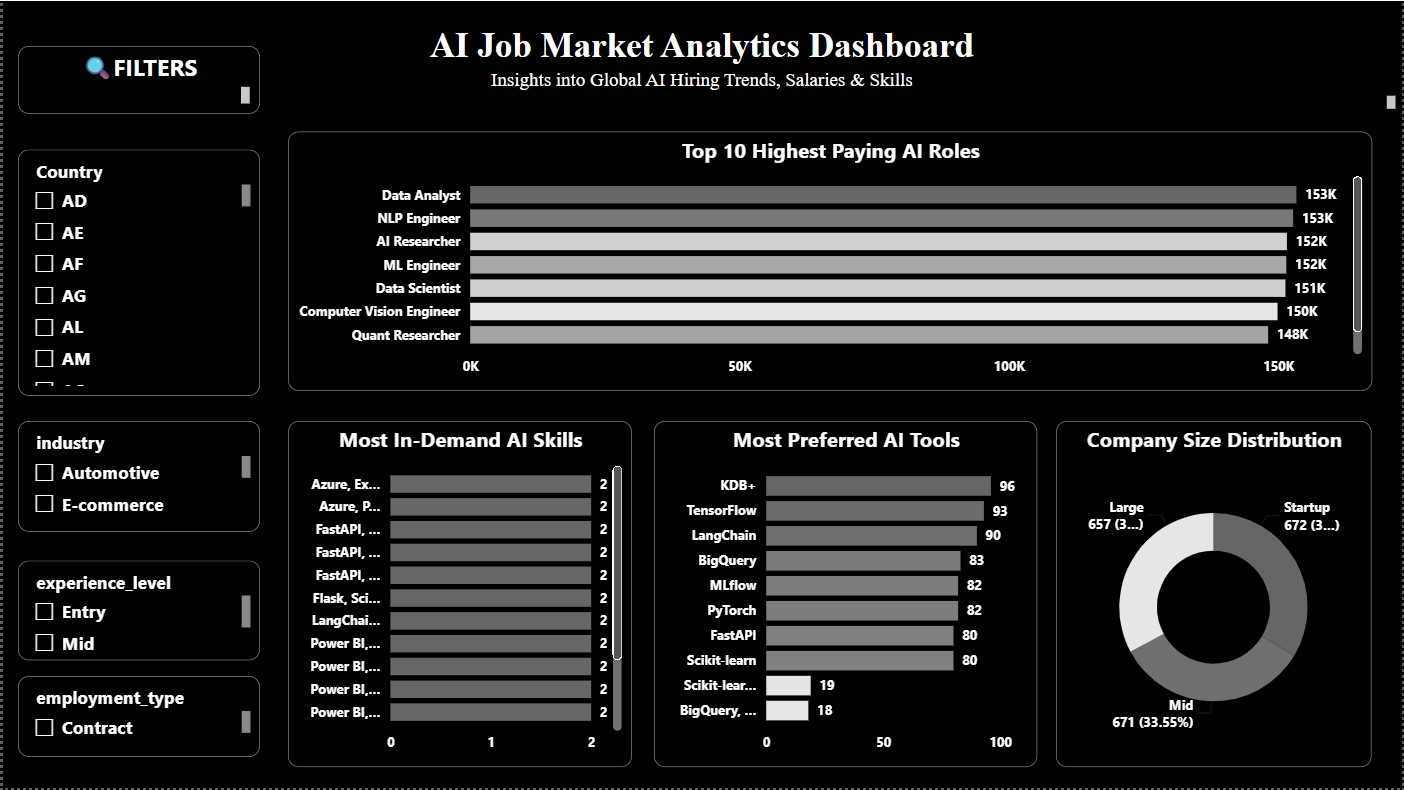

The page's visual inventory and layout, read from the dashboard file:
{"tool":"powerbi","page":{"name":"Salary & Skills Analysis","canvas":[1280,720],"ordinal":1},"visuals":[{"type":"clusteredBarChart","title":"Top 10 Highest Paying AI Roles","fields":{"Category":["ai_job_market.job_title"],"Y":["Avg(ai_job_market.Salary_max)"]},"box":[260.9,119.5,991.9,237],"z":0},{"type":"donutChart","title":"Company Size Distribution","fields":{"Category":["ai_job_market.company_size"],"Y":["CountNonNull(ai_job_market.job_id)"]},"box":[964,384.4,288.8,316.7],"z":1000},{"type":"clusteredBarChart","title":"Most Preferred AI Tools","fields":{"Category":["ai_job_market.tools_preferred"],"Y":["CountNonNull(ai_job_market.job_id)"]},"box":[595.5,384.4,350.5,316.7],"z":2000},{"type":"clusteredBarChart","title":"Most In-Demand AI Skills","fields":{"Category":["ai_job_market.skills_required"],"Y":["CountNonNull(ai_job_market.job_id)"]},"box":[260.9,384.4,314.7,316.7],"z":3000},{"type":"slicer","fields":{"Values":["ai_job_market.Country"]},"box":[13.9,135.4,221.1,225.1],"z":4000},{"type":"slicer","fields":{"Values":["ai_job_market.industry"]},"box":[13.9,384.4,221.1,101.6],"z":5000},{"type":"slicer","fields":{"Values":["ai_job_market.experience_level"]},"box":[13.9,511.9,221.1,91.6],"z":6000},{"type":"slicer","fields":{"Values":["ai_job_market.employment_type"]},"box":[13.9,617.4,221.1,73.7],"z":7000},{"type":"textbox","title":"AI Job Market Analytics Dashboard","box":[0,21.9,1278.7,81.7],"z":8000},{"type":"textbox","title":"🔍FILTERS","box":[13.9,41.8,221.1,61.7],"z":9000}]}

Visuals, with their boxes in screenshot pixels (x1, y1, x2, y2), scaled from the page's 1280x720 canvas onto the 1404x790 screenshot:
"Top 10 Highest Paying AI Roles" clusteredBarChart: rect(286, 131, 1374, 391)
"Company Size Distribution" donutChart: rect(1057, 422, 1374, 769)
"Most Preferred AI Tools" clusteredBarChart: rect(653, 422, 1038, 769)
"Most In-Demand AI Skills" clusteredBarChart: rect(286, 422, 631, 769)
slicer - ai_job_market.Country: rect(15, 149, 258, 396)
slicer - ai_job_market.industry: rect(15, 422, 258, 533)
slicer - ai_job_market.experience_level: rect(15, 562, 258, 662)
slicer - ai_job_market.employment_type: rect(15, 677, 258, 758)
"AI Job Market Analytics Dashboard" textbox: rect(0, 24, 1403, 114)
"🔍FILTERS" textbox: rect(15, 46, 258, 114)
